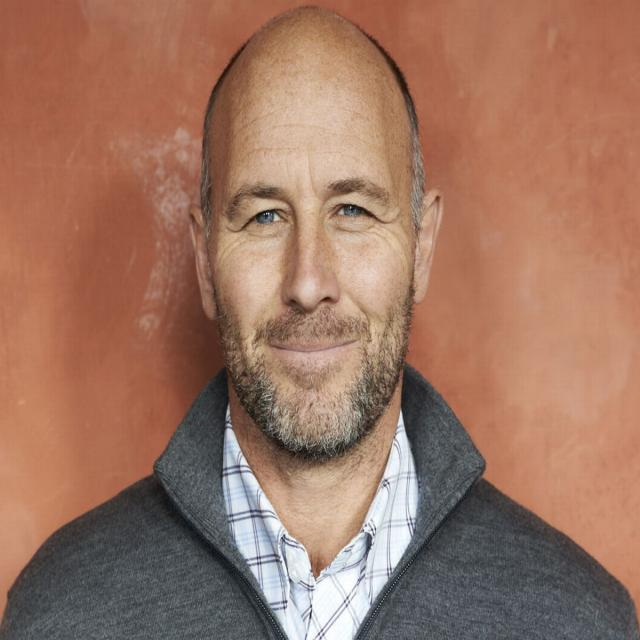bald: (166, 3, 458, 245)
